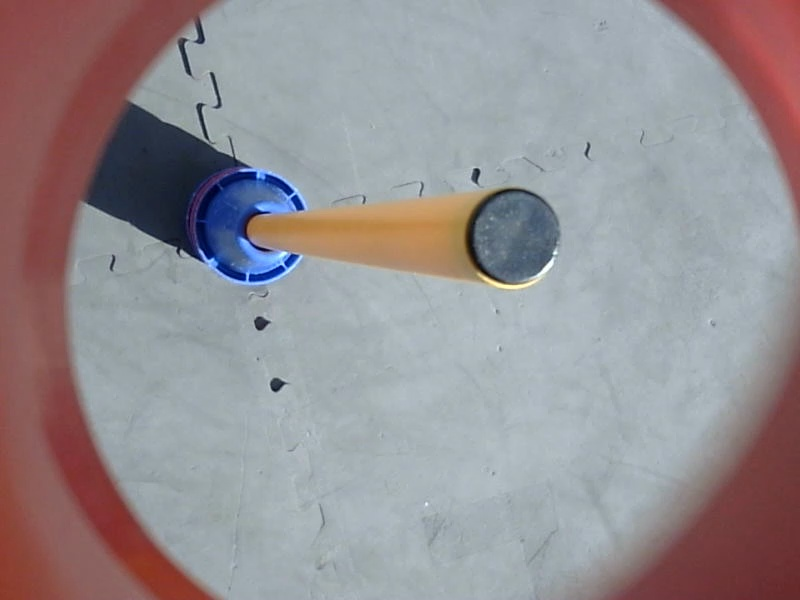tip: (460, 182, 567, 292)
